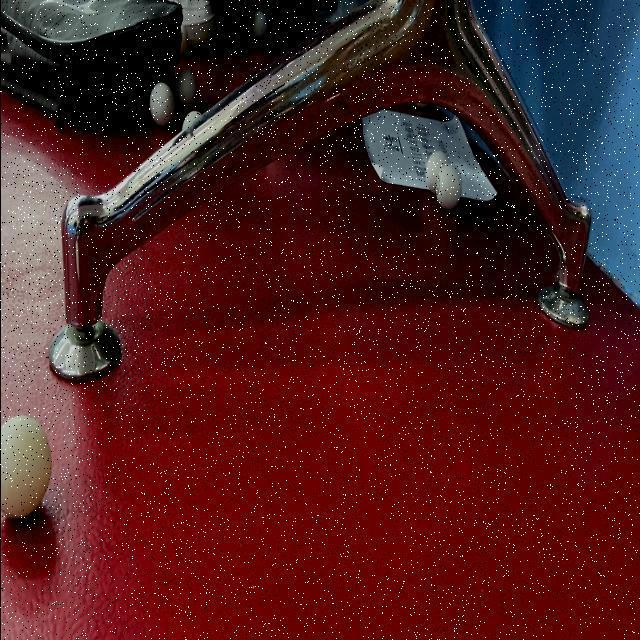ping-pong-ball: (0, 410, 53, 526), (433, 158, 463, 216), (146, 78, 176, 132), (247, 8, 269, 42)
